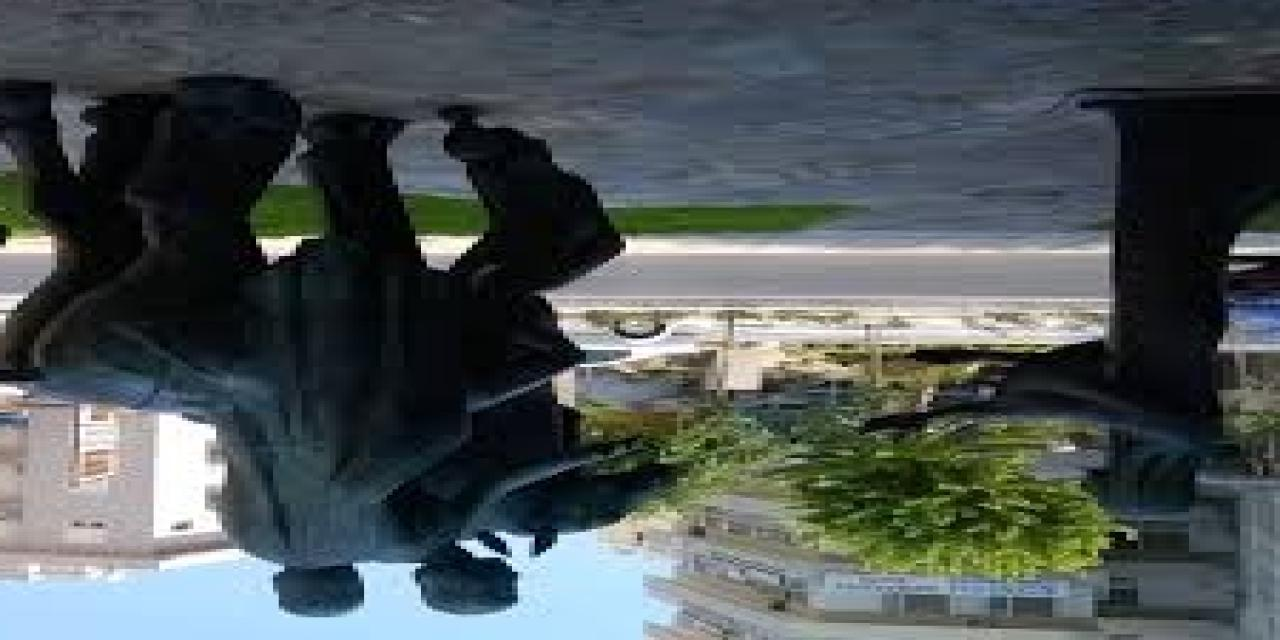Aretousa: (1, 78, 1280, 619)
